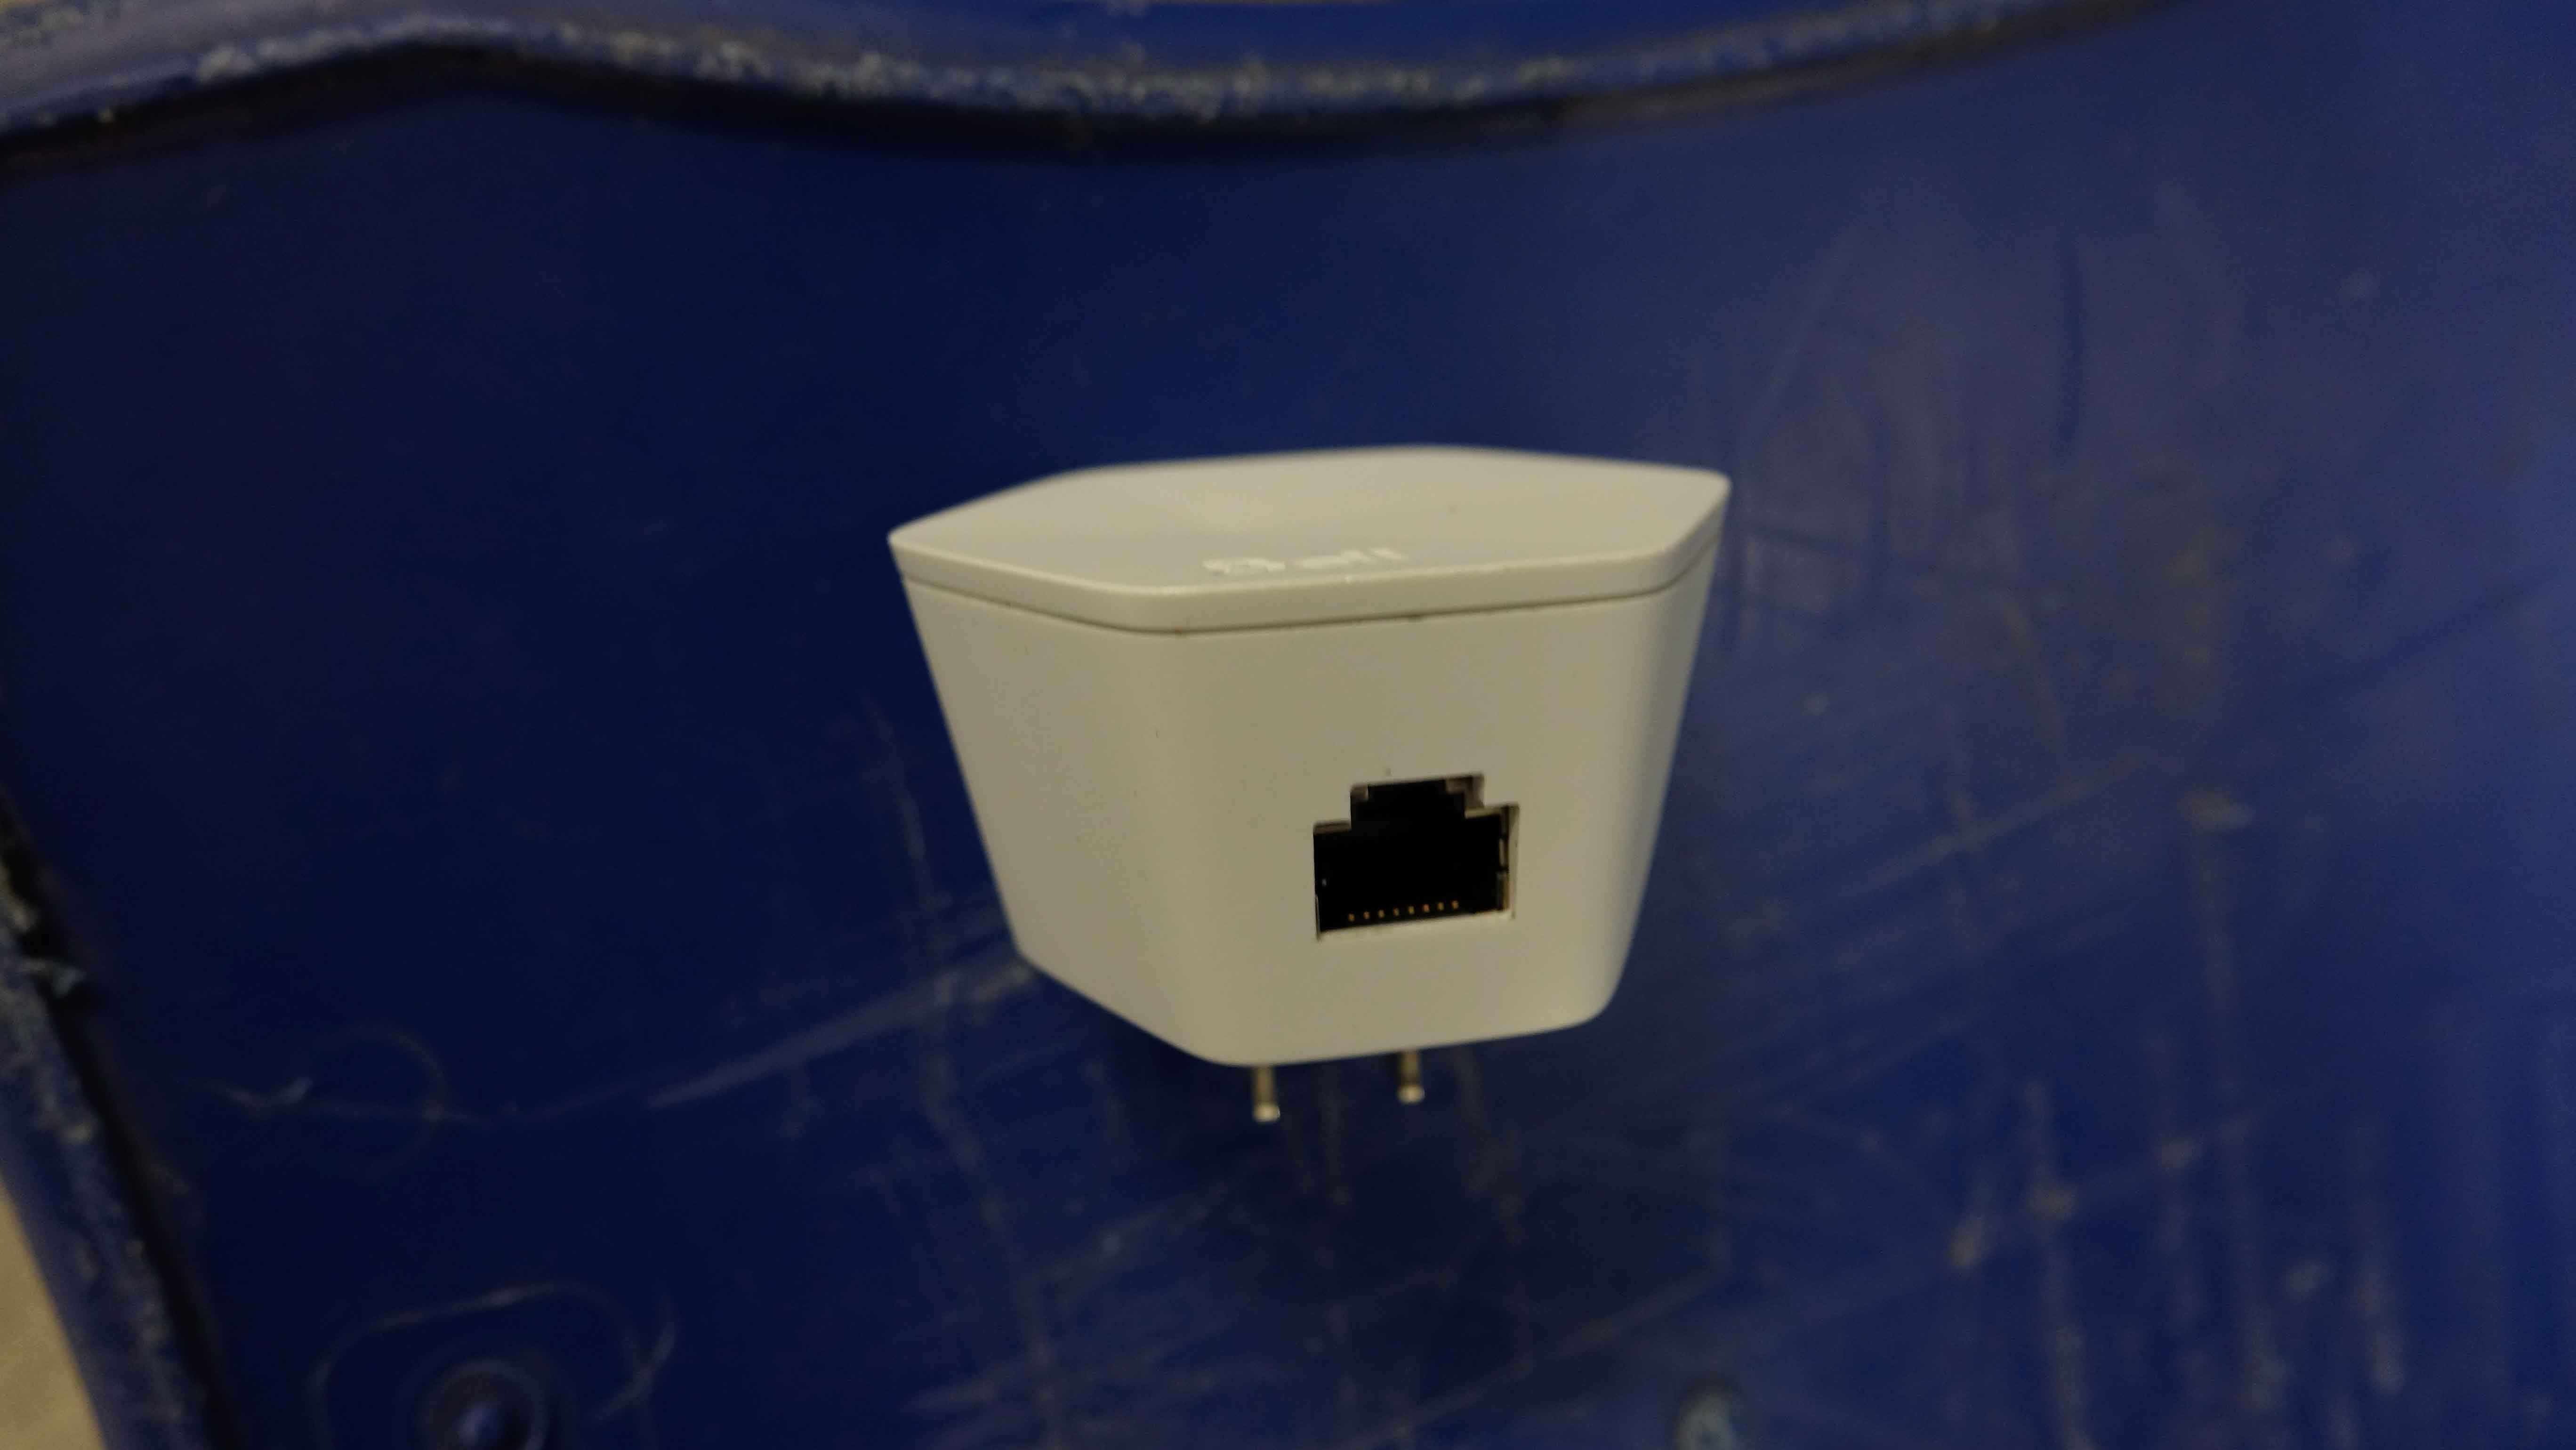pod: (870, 433, 1764, 1137)
